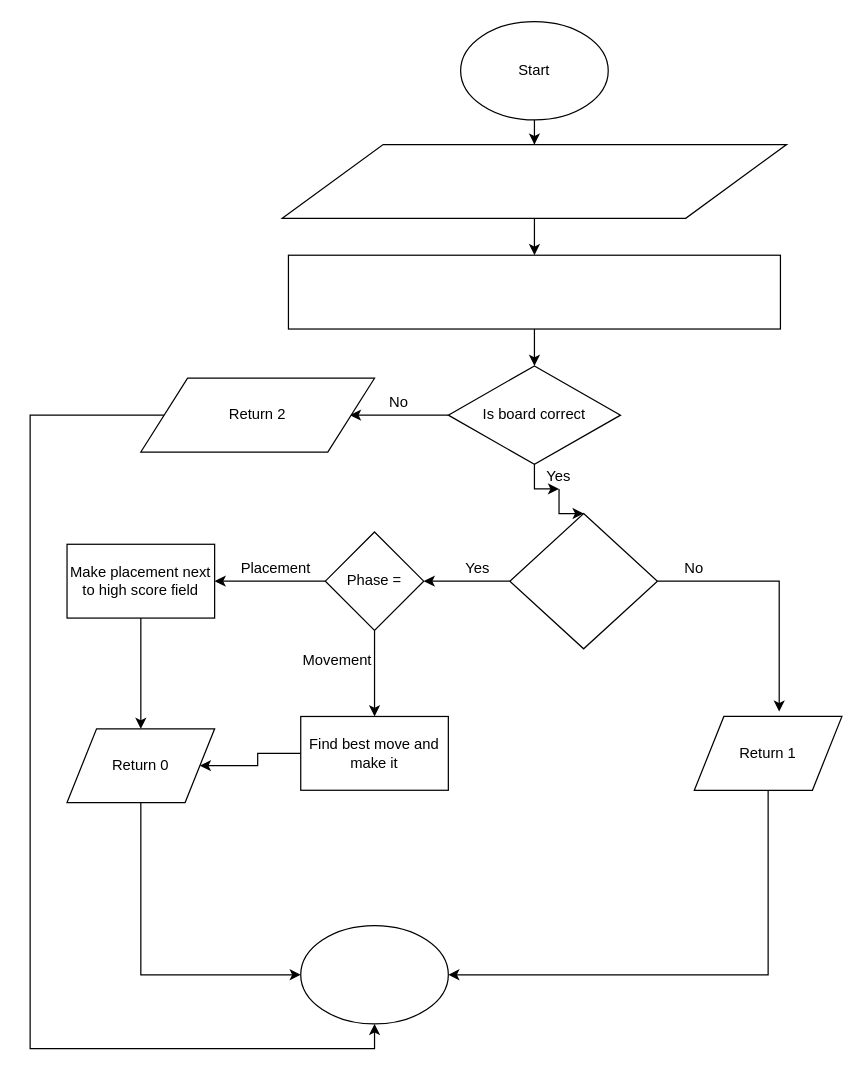
This 863x1080 diagram has some shape labels left out. Each missing label, with the centre of its shape:
End: pixel 374 974
get command line parameters and save them: pixel 534 180
Is move possible?: pixel 583 580
read the board and save in two dimensional array: pixel 533 291
